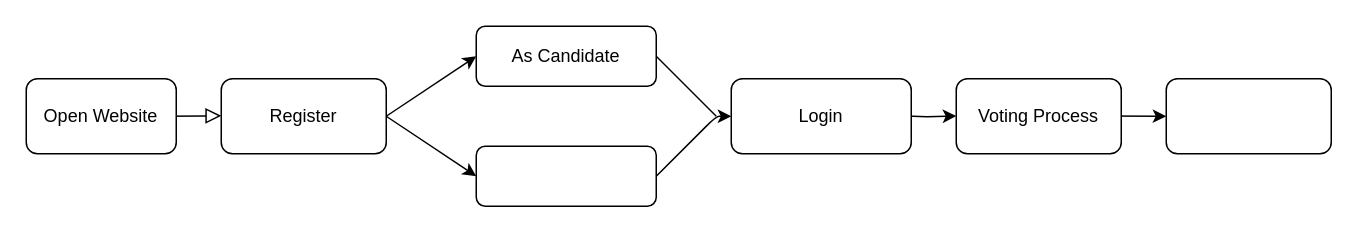
The diagram is 1358 pixels wide and 233 high, and some of its shapes have lost their labels. Each missing label, with the centre of its shape:
"As Voter" belongs at point 565,175.
"Display Results" belongs at point 1248,115.
